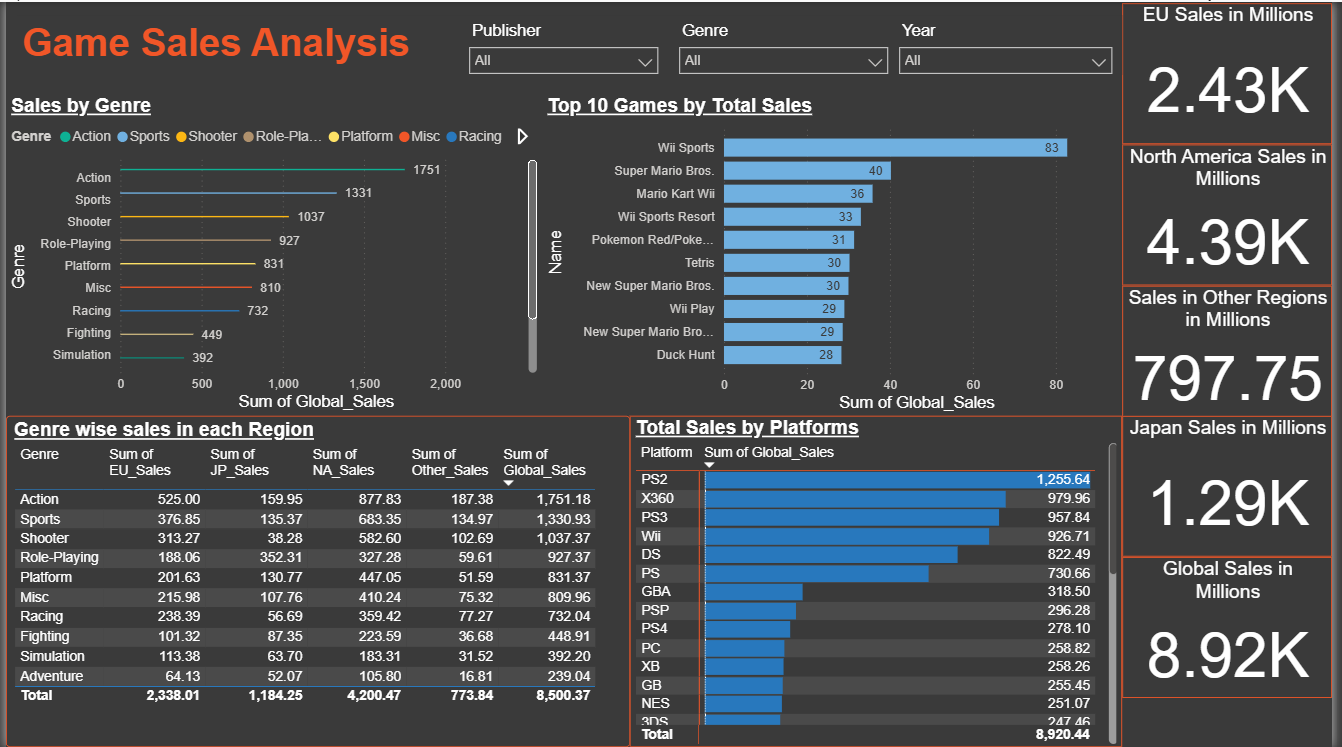

This screenshot's page, from the dashboard's own definition file:
{"tool":"powerbi","page":{"name":"Page 1","canvas":[1280,720],"ordinal":0},"visuals":[{"type":"clusteredBarChart","title":"Sales by Genre","fields":{"Category":["vgsales.Genre"],"Y":["Sum(vgsales.Global_Sales)"],"Series":["vgsales.Genre"]},"box":[0,89.3,517.6,310.1],"z":0},{"type":"clusteredBarChart","title":"Top 10  Games  by Total Sales","fields":{"Category":["vgsales.Name"],"Y":["Sum(vgsales.Global_Sales)"]},"box":[517.6,89.3,559.8,311.3],"z":1000},{"type":"tableEx","title":"Genre wise sales in each Region","fields":{"Values":["vgsales.Genre","Sum(vgsales.EU_Sales)","Sum(vgsales.JP_Sales)","Sum(vgsales.NA_Sales)","Sum(vgsales.Other_Sales)","Sum(vgsales.Global_Sales)"]},"box":[0,399.3,602,320.9],"z":2000},{"type":"card","title":"Global Sales in Millions","fields":{"Values":["Sum(vgsales.Global_Sales)"]},"box":[1077.4,535.7,202.7,136.3],"z":3000},{"type":"card","title":"EU Sales  in Millions","fields":{"Values":["Sum(vgsales.EU_Sales)"]},"box":[1077.4,1.2,202.7,136.3],"z":4000},{"type":"card","title":"Japan Sales in Millions","fields":{"Values":["Sum(vgsales.JP_Sales)"]},"box":[1077.4,399.3,202.7,136.3],"z":5000},{"type":"card","title":"North America Sales in Millions","fields":{"Values":["Sum(vgsales.NA_Sales)"]},"box":[1077.4,137.5,202.7,136.3],"z":6000},{"type":"card","title":"Sales in Other Regions in Millions","fields":{"Values":["Sum(vgsales.Other_Sales)"]},"box":[1077.4,273.9,202.7,126.7],"z":7000},{"type":"pivotTable","title":"Total Sales by Platforms","fields":{"Rows":["vgsales.Platform"],"Values":["Sum(vgsales.Global_Sales)"]},"box":[602,399.3,475.3,320.9],"z":8000},{"type":"textbox","box":[10.9,13.3,425.9,56.7],"z":9000},{"type":"slicer","fields":{"Values":["vgsales.Year"]},"box":[851.7,13.3,225.6,56.7],"z":10000},{"type":"slicer","fields":{"Values":["vgsales.Genre"]},"box":[639.4,13.3,222,56.7],"z":11000},{"type":"slicer","fields":{"Values":["vgsales.Publisher"]},"box":[436.7,13.3,202.7,56.7],"z":12000}]}

Visuals, with their boxes in screenshot pixels (x1, y1, x2, y2), scaled from the page's 1280x720 canvas onto the 1342x747 screenshot:
"Sales by Genre" clusteredBarChart: BBox(0, 93, 543, 414)
"Top 10  Games  by Total Sales" clusteredBarChart: BBox(543, 93, 1130, 416)
"Genre wise sales in each Region" tableEx: BBox(0, 414, 631, 746)
"Global Sales in Millions" card: BBox(1130, 556, 1341, 697)
"EU Sales  in Millions" card: BBox(1130, 1, 1341, 143)
"Japan Sales in Millions" card: BBox(1130, 414, 1341, 556)
"North America Sales in Millions" card: BBox(1130, 143, 1341, 284)
"Sales in Other Regions in Millions" card: BBox(1130, 284, 1341, 416)
"Total Sales by Platforms" pivotTable: BBox(631, 414, 1129, 746)
textbox: BBox(11, 14, 458, 73)
slicer - vgsales.Year: BBox(893, 14, 1129, 73)
slicer - vgsales.Genre: BBox(670, 14, 903, 73)
slicer - vgsales.Publisher: BBox(458, 14, 670, 73)
